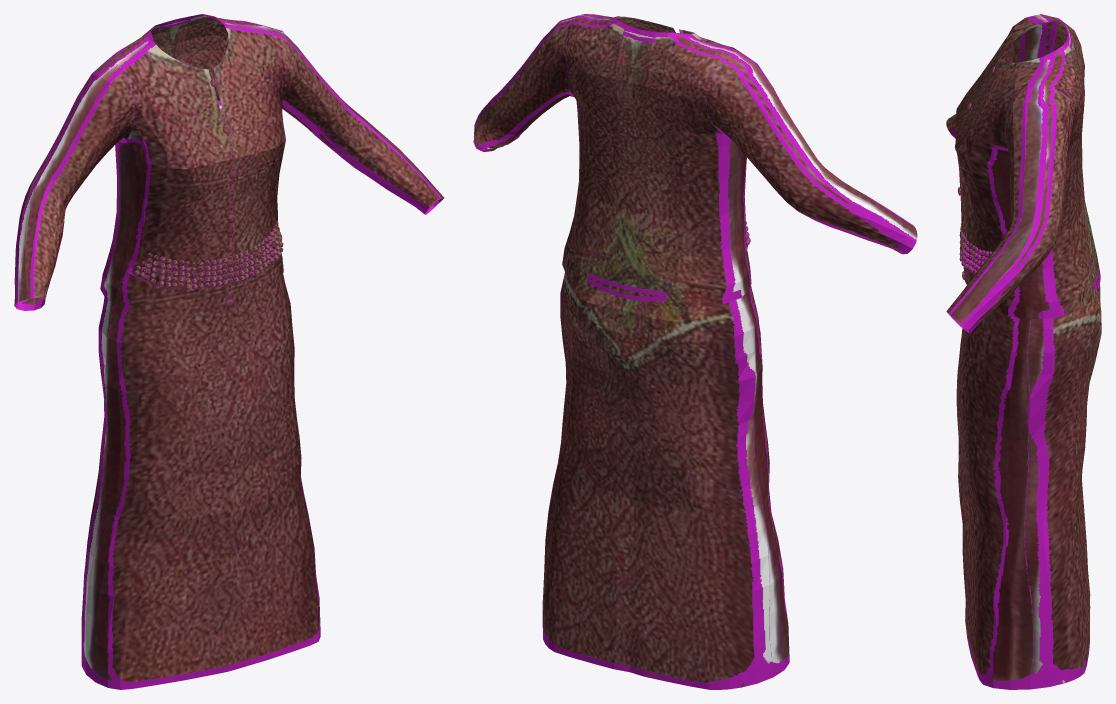
The picture shows the model from 3 angles, left to right: view 1: azimuth 30°, elevation 25°; view 2: azimuth 150°, elevation 25°; view 3: azimuth 270°, elevation 25°; orthographic projection. The views are drawn at different scales.
Size of the model in its own units: 0.6457 by 0.891 by 0.2076.
1 material, 1 textured.
